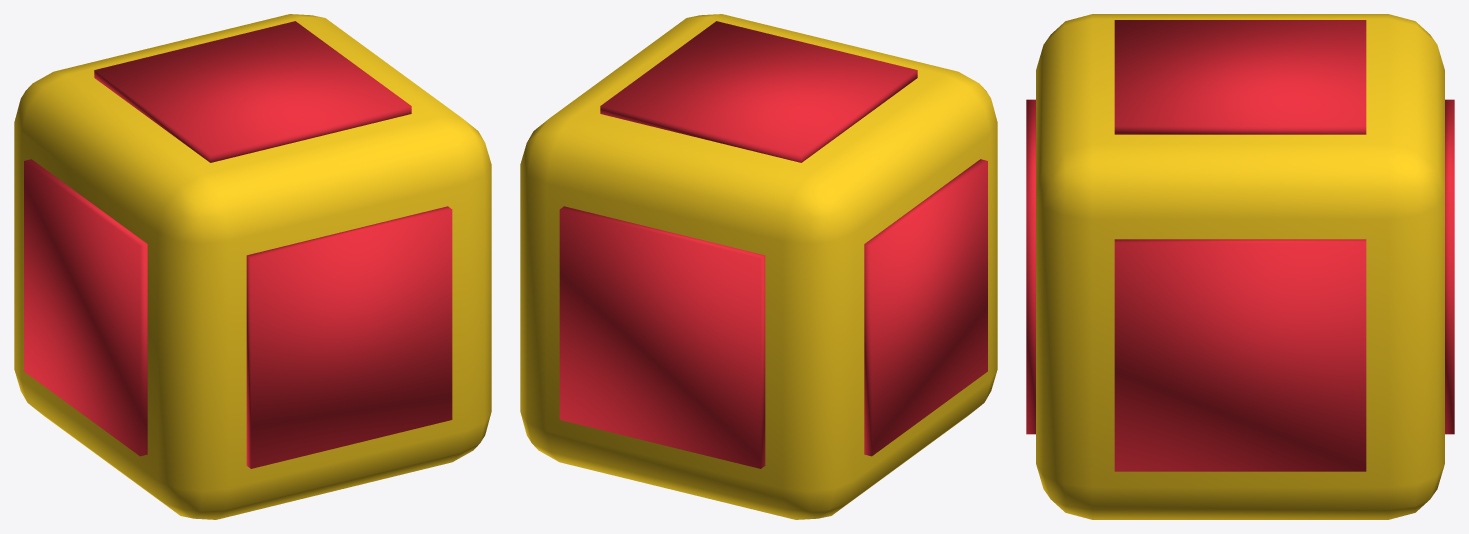
Rendered from item_box.glb.
3 views of the same model, side by side, from view 1: azimuth 30°, elevation 25°; view 2: azimuth 150°, elevation 25°; view 3: azimuth 270°, elevation 25° (orthographic). The views are drawn at different scales.
Parts seen in each view (by area): view 1: item_box_mesh; view 2: item_box_mesh; view 3: item_box_mesh.
Part boxes in pixels (x1,y1,x2,y2): item_box_mesh: (14, 14, 491, 519); item_box_mesh: (520, 14, 997, 519); item_box_mesh: (1026, 14, 1454, 519).
Size of the model in its own units: 1.36 by 1.36 by 1.36.
